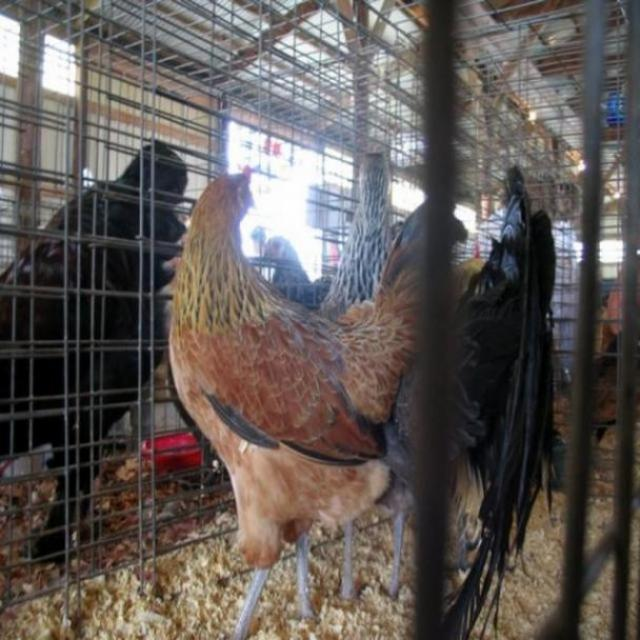Chicken: (315, 140, 432, 609), (176, 166, 313, 558)
